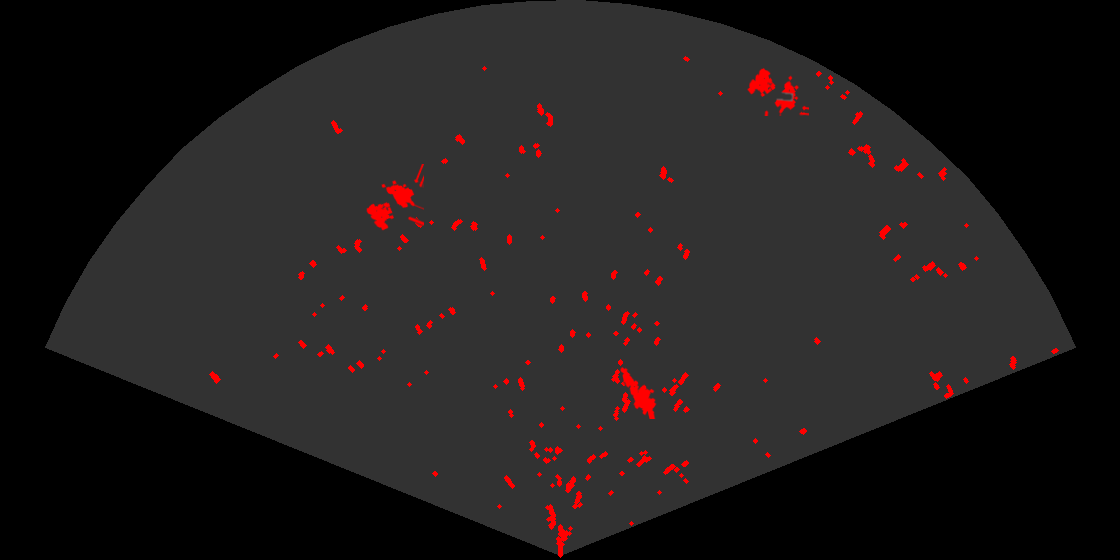cage: (365, 164, 424, 232), (745, 66, 809, 116)
frogman: (619, 365, 658, 419)
